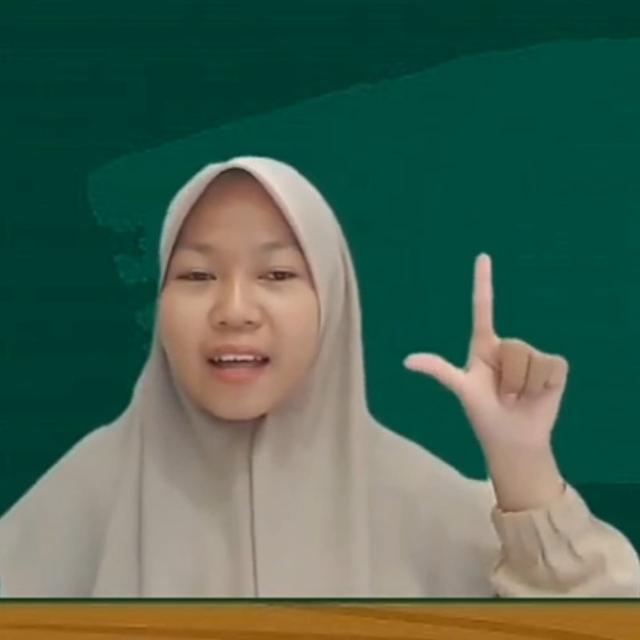L: (397, 248, 575, 446)
